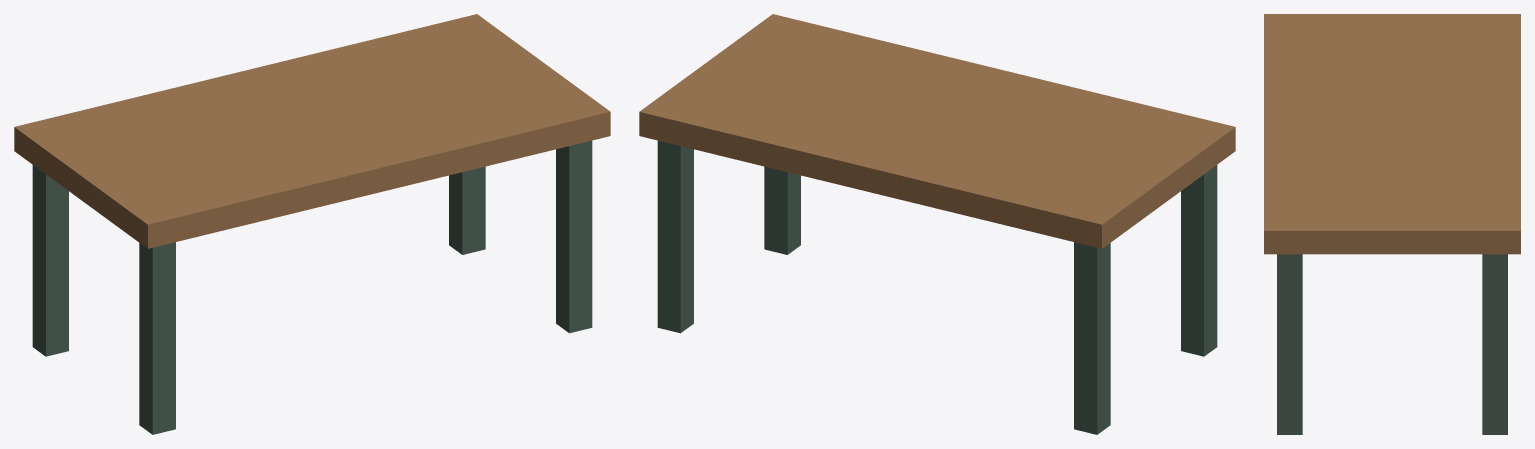
3 renders of one model, left to right at view 1: azimuth 30°, elevation 25°; view 2: azimuth 150°, elevation 25°; view 3: azimuth 270°, elevation 25°, orthographic. The views are drawn at different scales.
Visible parts, largest first — view 1: top, leg-0-1, leg-1-1, leg-0-0, leg-1-0; view 2: top, leg-0-0, leg-1-0, leg-0-1, leg-1-1; view 3: top, leg-1-0, leg-1-1.
Part boxes in pixels (x1,y1,x2,y2): top: (14, 14, 610, 248); leg-0-1: (139, 242, 175, 434); leg-1-1: (556, 140, 592, 333); leg-0-0: (32, 165, 68, 356); leg-1-0: (449, 166, 485, 254); top: (639, 14, 1235, 248); leg-0-0: (1074, 242, 1110, 434); leg-1-0: (657, 140, 693, 333); leg-0-1: (1181, 165, 1217, 356); leg-1-1: (764, 166, 800, 254); top: (1264, 14, 1520, 254); leg-1-0: (1482, 254, 1507, 434); leg-1-1: (1277, 254, 1302, 434).
Size of the model in its own units: 1 by 0.45 by 0.5.
